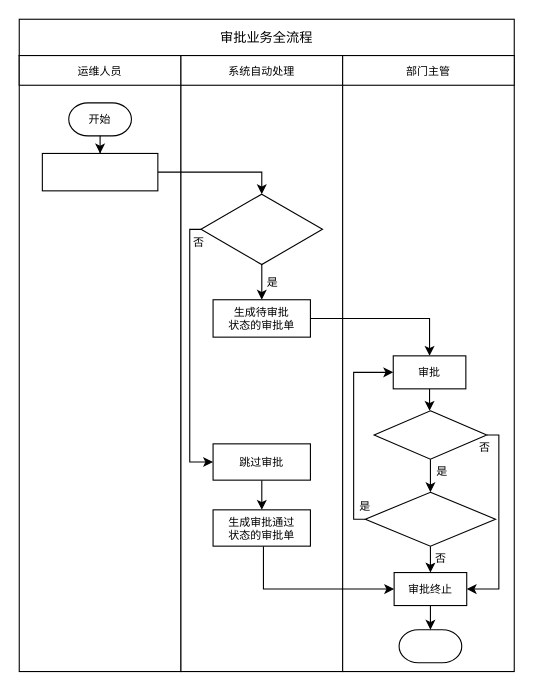
The diagram is 534 pixels wide and 691 high, and some of its shapes have lost their labels. The shapes that lost their labels are listed below. From the top down, each one's centre as x and y in pixels, then its label:
At [99,171]: "发起物料申请（如采购、领用等）".
At [261,229]: "是否有预设 的审批流程".
At [430,434]: "是否审批通过".
At [430,518]: "是否有下一级 审批节点".
At [430,646]: "结束".
